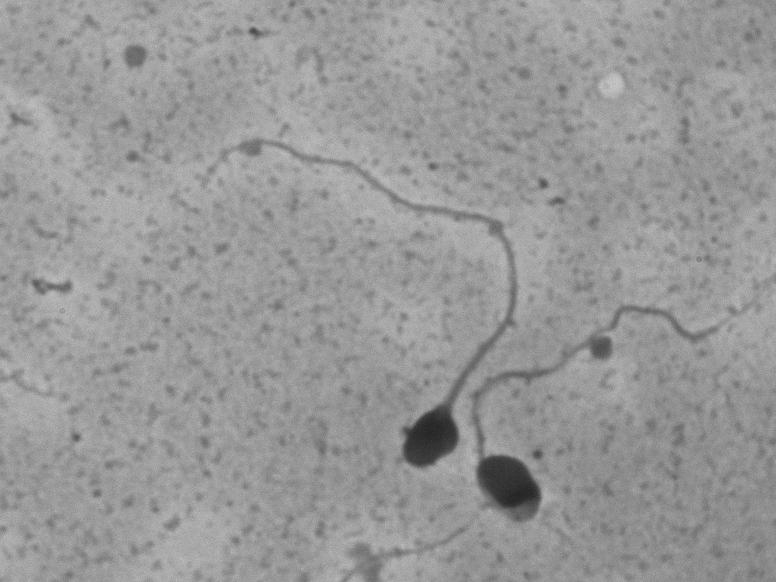Abnormal: (180, 111, 582, 488), (457, 283, 729, 537)
